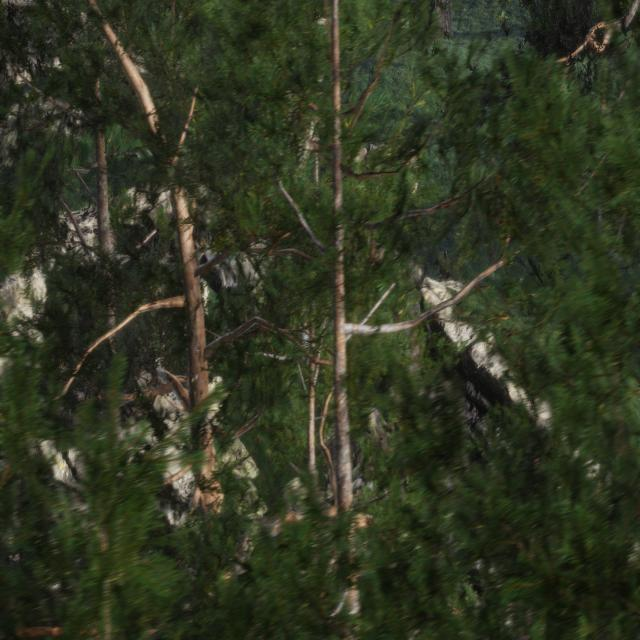Human: (200, 255, 214, 332)
